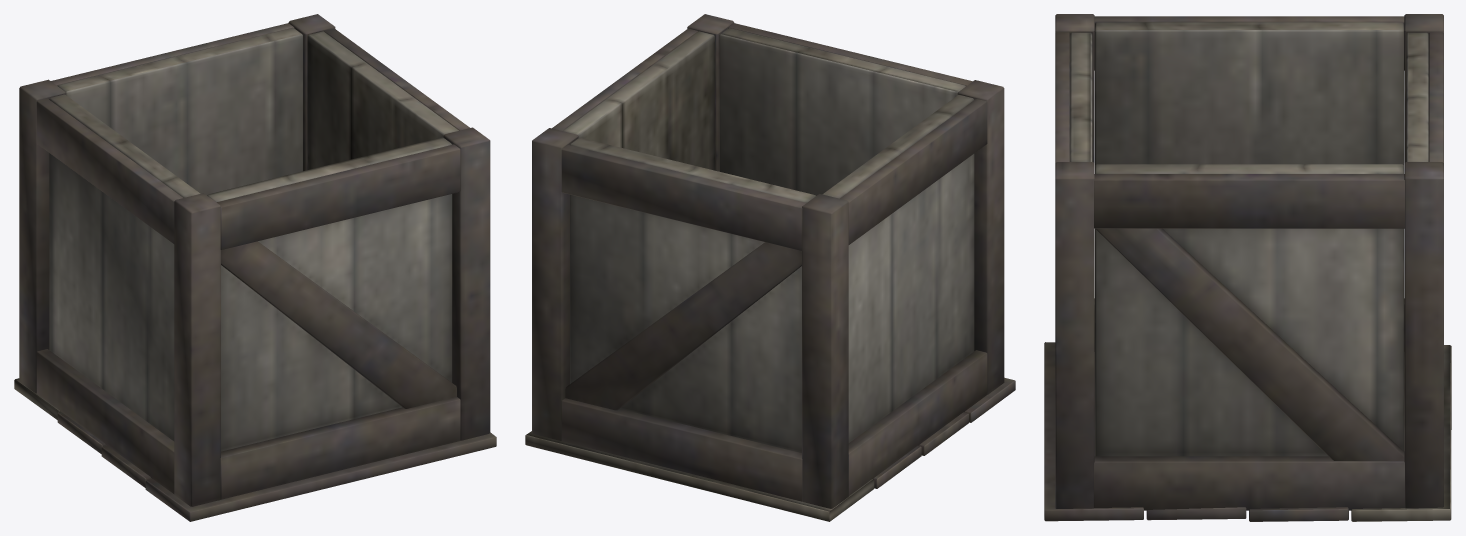
The model's file is crate0.gltf.
3 views of the same model, side by side, from view 1: azimuth 30°, elevation 25°; view 2: azimuth 150°, elevation 25°; view 3: azimuth 270°, elevation 25° (orthographic). The views are drawn at different scales.
Parts seen in each view (by area): view 1: crate0; view 2: crate0; view 3: crate0.
Boxes of the visible parts, box(x1,y1,x2,y2) form: crate0: box(14, 14, 496, 521); crate0: box(525, 14, 1015, 521); crate0: box(1044, 14, 1451, 521).
Size of the model in its own units: 0.4979 by 0.4693 by 0.5039.
Materials: 1 (1 with a texture image).
